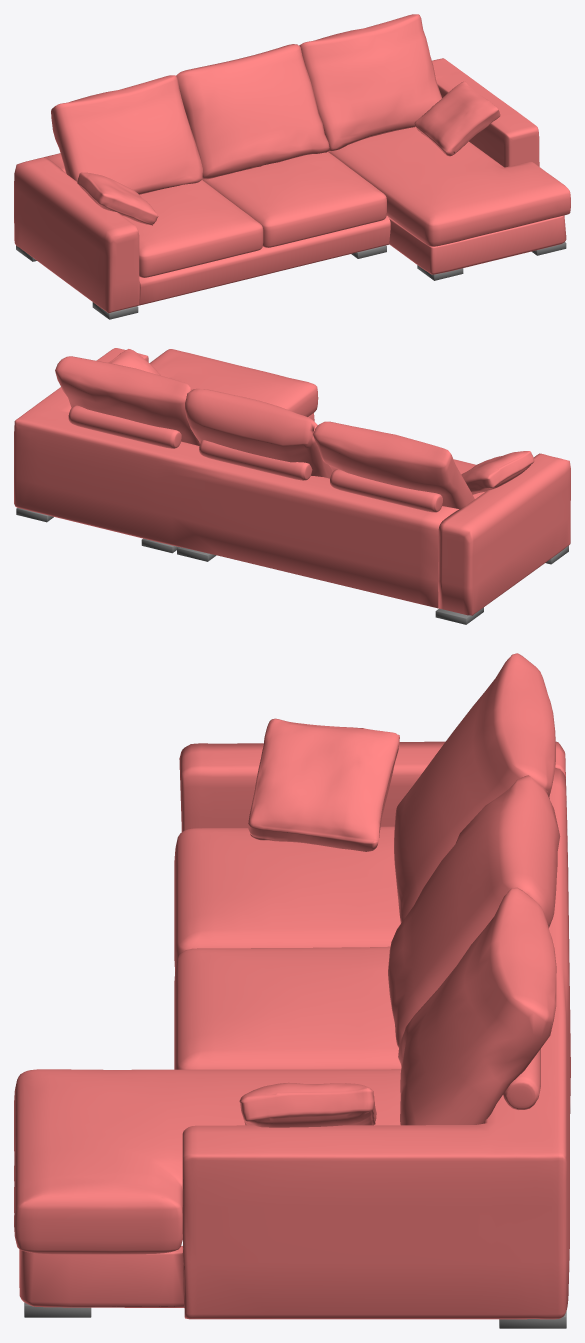
File: SF_Ethnic.FBX
3 renders of one model, top to bottom at view 1: azimuth 30°, elevation 25°; view 2: azimuth 150°, elevation 25°; view 3: azimuth 270°, elevation 25°, orthographic. The views are drawn at different scales.
Visible parts, largest first — view 1: SF_Ethnic; view 2: SF_Ethnic; view 3: SF_Ethnic.
Boxes of the visible parts, bbox=[...] form: SF_Ethnic: bbox=[14, 14, 570, 319]; SF_Ethnic: bbox=[14, 348, 570, 624]; SF_Ethnic: bbox=[14, 653, 570, 1328].
Size of the model in its own units: 274 by 90.55 by 154.
